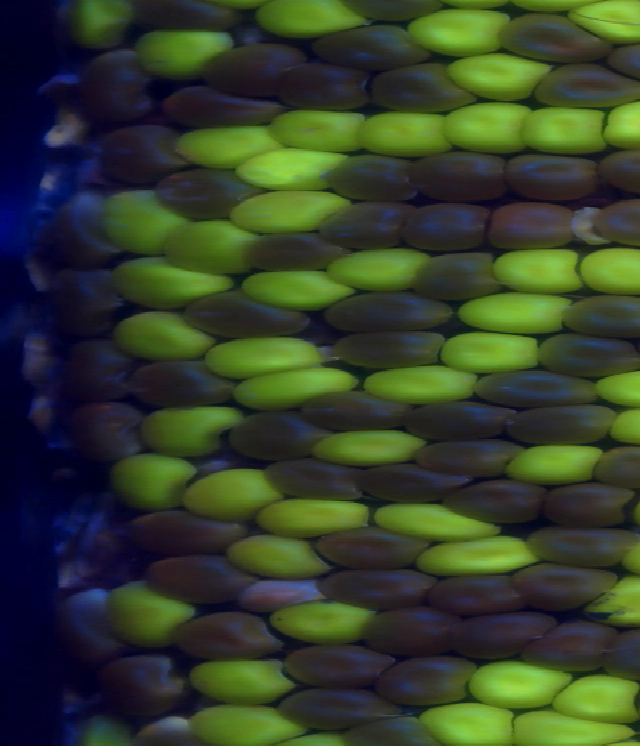fluorescent: (101, 579, 203, 652), (128, 24, 242, 81), (450, 289, 589, 335), (197, 326, 326, 374), (369, 496, 503, 542), (104, 254, 235, 301), (266, 594, 379, 648), (184, 462, 282, 524), (411, 9, 526, 61), (445, 46, 549, 103), (222, 184, 351, 229), (486, 242, 589, 298), (226, 527, 334, 579), (347, 106, 449, 161), (106, 306, 216, 357), (139, 405, 249, 456), (324, 244, 436, 294), (251, 491, 381, 534), (189, 655, 300, 705), (238, 266, 364, 309), (314, 424, 432, 469), (438, 326, 544, 376), (251, 1, 374, 44), (179, 703, 311, 743), (225, 369, 362, 407), (516, 101, 616, 153), (101, 191, 184, 252), (264, 105, 371, 151), (169, 121, 283, 164), (365, 364, 481, 406), (554, 670, 640, 726), (468, 659, 569, 706), (104, 455, 195, 507), (443, 99, 531, 152), (514, 708, 632, 746), (241, 152, 346, 194), (161, 228, 266, 269), (418, 541, 535, 576), (421, 702, 512, 746), (57, 1, 140, 49), (500, 444, 604, 480), (574, 1, 640, 48), (588, 571, 640, 628), (583, 247, 640, 294), (595, 96, 640, 149), (79, 718, 139, 746), (597, 371, 640, 409)
nonfluorescent: (138, 549, 267, 601), (497, 11, 616, 65), (54, 581, 139, 656), (184, 289, 309, 339), (44, 256, 121, 336), (442, 609, 559, 661), (312, 198, 413, 257), (521, 614, 619, 674), (440, 479, 555, 530), (312, 524, 442, 569), (319, 149, 424, 204), (351, 456, 471, 504), (481, 201, 579, 259), (174, 608, 284, 659), (277, 684, 401, 729), (160, 82, 283, 127), (373, 651, 477, 704), (149, 166, 252, 219), (299, 387, 415, 434), (199, 45, 310, 94), (320, 289, 449, 331), (92, 655, 193, 708), (309, 26, 436, 67), (81, 53, 161, 118), (534, 330, 640, 379), (530, 64, 640, 111), (520, 524, 640, 567), (276, 60, 377, 111), (408, 252, 509, 303), (409, 149, 512, 199), (472, 364, 604, 403), (49, 196, 119, 268), (100, 125, 186, 183), (376, 64, 477, 113), (362, 609, 469, 655), (126, 511, 254, 549), (223, 409, 324, 457), (320, 565, 438, 606), (331, 324, 446, 366), (63, 334, 134, 401), (502, 403, 617, 444), (397, 202, 493, 251), (412, 431, 512, 478), (509, 561, 620, 603), (506, 152, 604, 199), (128, 364, 233, 407), (407, 403, 519, 443), (280, 648, 393, 686), (263, 457, 364, 499), (76, 398, 138, 464), (542, 486, 639, 528), (434, 571, 532, 612), (244, 231, 343, 270), (562, 292, 640, 339), (120, 1, 237, 32), (331, 1, 448, 26), (345, 716, 441, 746), (600, 622, 640, 679), (131, 716, 204, 746), (597, 442, 640, 489), (597, 199, 640, 246), (596, 149, 640, 191), (606, 38, 640, 88)
